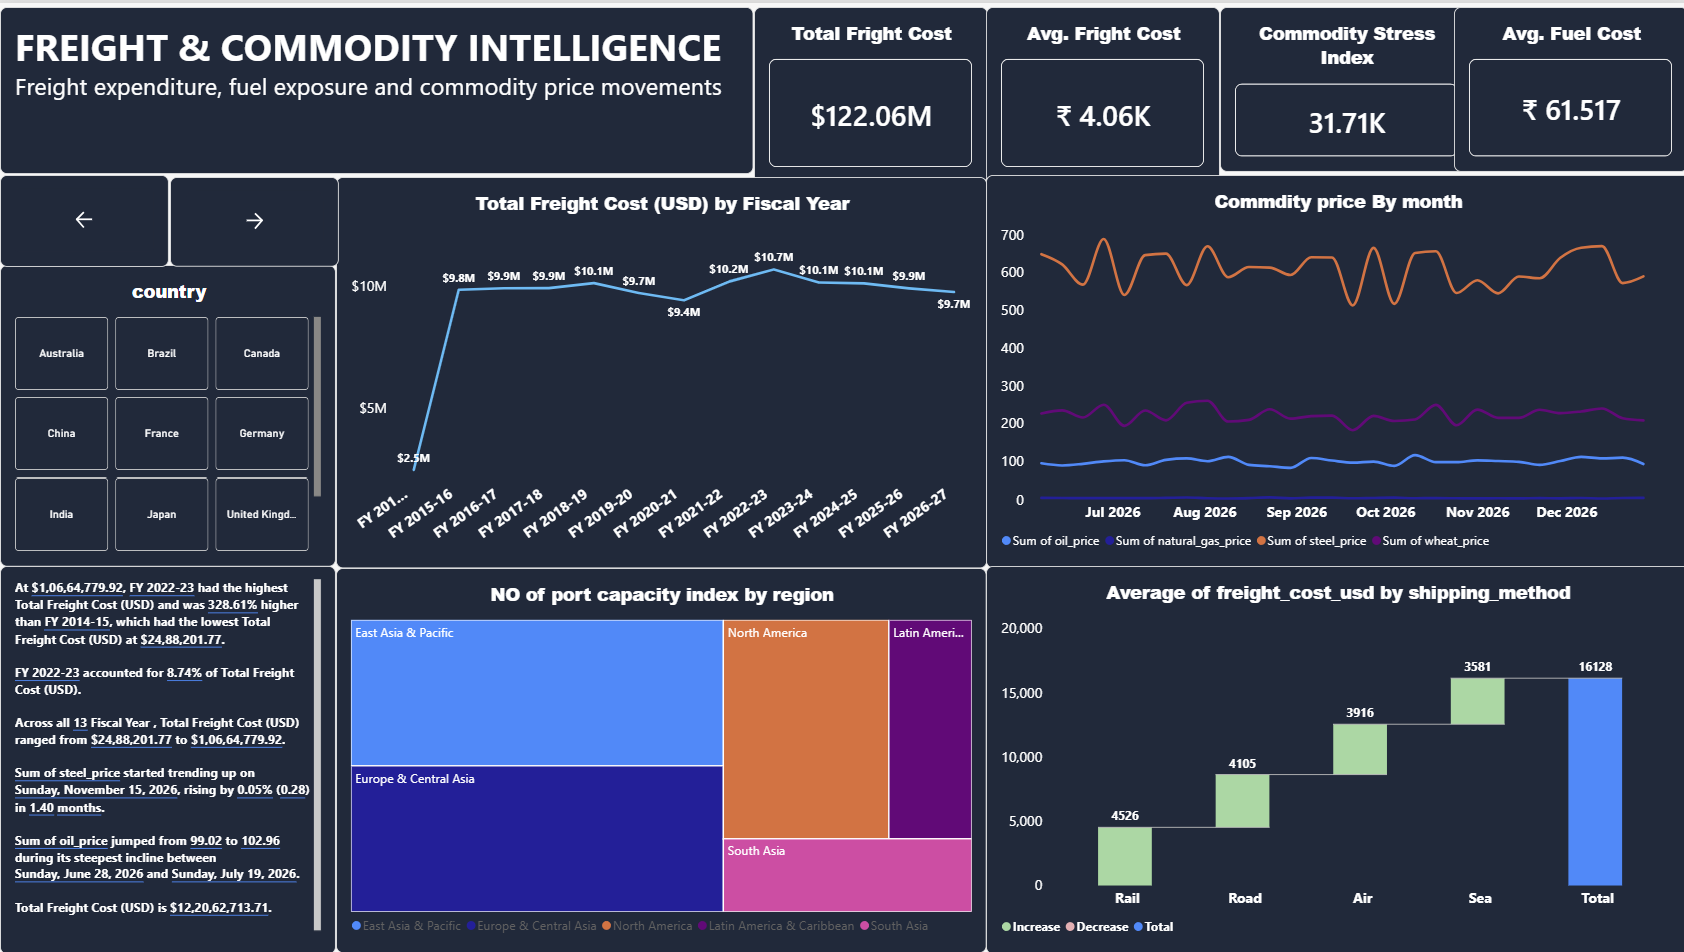

The page's visual inventory and layout, read from the dashboard file:
{"tool":"powerbi","page":{"name":"Freight & Commodity Market Intelligence","canvas":[1920,1080],"ordinal":2},"visuals":[{"type":"cardVisual","title":"Total Fright Cost","fields":{"Data":["_Measures.Total Freight Cost (USD)"]},"box":[856.8,4.7,265.8,199.4],"z":0},{"type":"cardVisual","title":"Avg. Fright Cost","fields":{"Data":["_Measures.Average Freight Cost"]},"box":[1122.6,0,265.8,199.4],"z":1000},{"type":"cardVisual","title":"Commodity Stress Index","fields":{"Data":["Sum(fact_commodity_market.commodity_stress_index)"]},"box":[1388.4,4.7,287.2,187.5],"z":2000},{"type":"cardVisual","title":"Avg. Fuel Cost","fields":{"Data":["_Measures.Average Fuel Cost Index"]},"box":[1654.2,4.7,265.8,187.5],"z":3000},{"type":"lineChart","fields":{"Category":["fact_commodity_market.date"],"Y":["Sum(fact_commodity_market.oil_price)","Sum(fact_commodity_market.natural_gas_price)","Sum(fact_commodity_market.steel_price)","Sum(fact_commodity_market.wheat_price)"]},"box":[1122.6,194.6,799.8,446.2],"z":4000},{"type":"lineChart","fields":{"Category":["weekly_timeline.Fiscal Year "],"Y":["_Measures.Total Freight Cost (USD)"]},"box":[382.1,197,740.5,443.8],"z":5000},{"type":"waterfallChart","fields":{"Category":["dim_trade_route.shipping_method"],"Y":["Avg(fact_route_operation.freight_cost_usd)"]},"box":[1122.6,638.4,799.8,441.4],"z":6000},{"type":"textbox","box":[0,638.4,382.1,441.4],"z":7000},{"type":"advancedSlicerVisual","fields":{"Values":["dim_origin_country.country"]},"box":[0,299,382.1,341.8],"z":8000},{"type":"treemap","fields":{"Group":["dim_origin_country.region"],"Values":["CountNonNull(dim_origin_country.port_capacity_index)"]},"box":[382,641,740,438],"z":9000},{"type":"actionButton","box":[0,194.6,192.2,104.4],"z":10000},{"type":"actionButton","box":[192.2,197,192.2,102.1],"z":11000},{"type":"textbox","box":[0,4.7,856.8,189.9],"z":12000}]}

Visuals, with their boxes in screenshot pixels (x1, y1, x2, y2), scaled from the page's 1920x1080 canvas onto the 1684x952 screenshot:
"Total Fright Cost" cardVisual: 751,4,985,180
"Avg. Fright Cost" cardVisual: 985,0,1218,176
"Commodity Stress Index" cardVisual: 1218,4,1470,169
"Avg. Fuel Cost" cardVisual: 1451,4,1683,169
lineChart - fact_commodity_market.date x Sum(fact_commodity_market.oil_price): 985,172,1683,565
lineChart - weekly_timeline.Fiscal Year  x _Measures.Total Freight Cost (USD): 335,174,985,565
waterfallChart - dim_trade_route.shipping_method x Avg(fact_route_operation.freight_cost_usd): 985,563,1683,951
textbox: 0,563,335,951
advancedSlicerVisual - dim_origin_country.country: 0,264,335,565
treemap - dim_origin_country.region x CountNonNull(dim_origin_country.port_capacity_index): 335,565,984,951
actionButton: 0,172,169,264
actionButton: 169,174,337,264
textbox: 0,4,751,172
